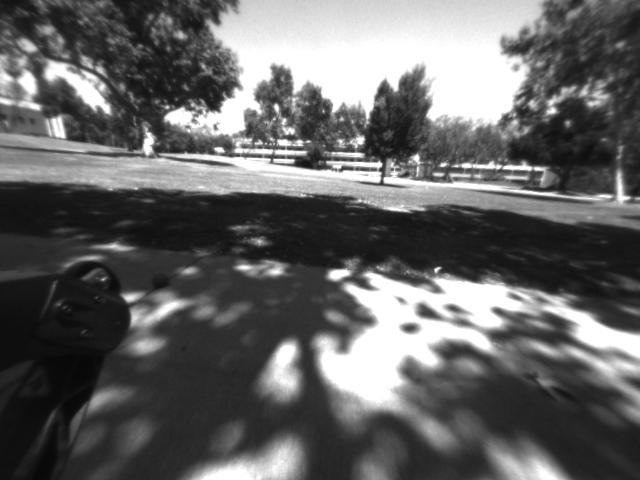dogtoy: (144, 268, 178, 292)
